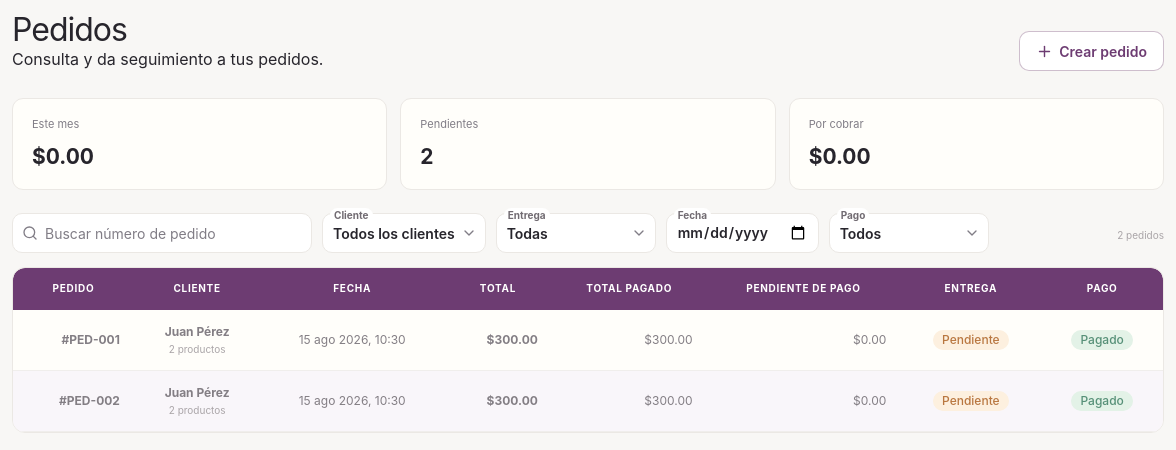
Scenario: OrdersPage › Filtros › debería buscar pedidos por número
The image size is (1176, 450).
Type "002" into the field named "Buscar por número de pedido".
click(162, 233); type("002")  # box [12,213,312,253]
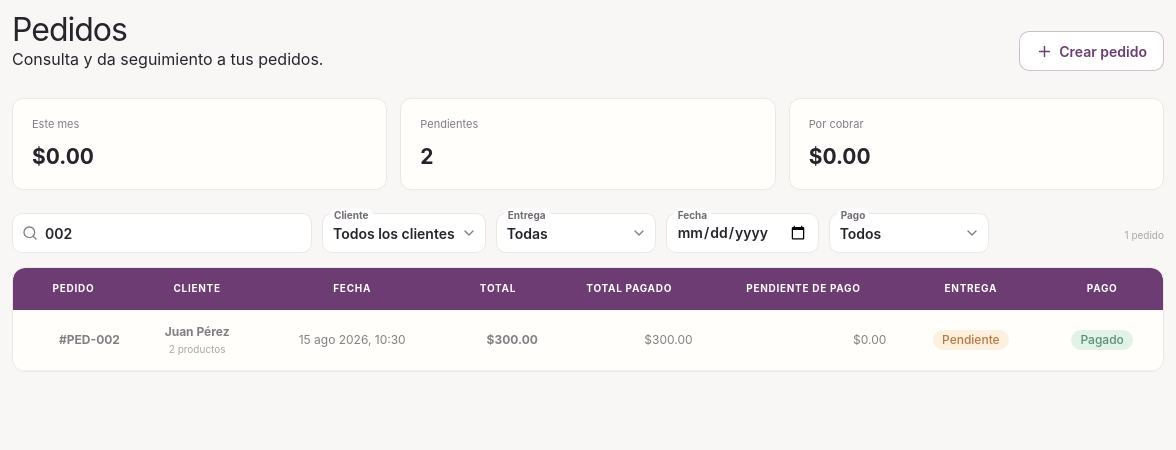
Expected: the text "#PED-002" is shown, [13,310,134,370]
Expected: the text "#PED-001" is gone
